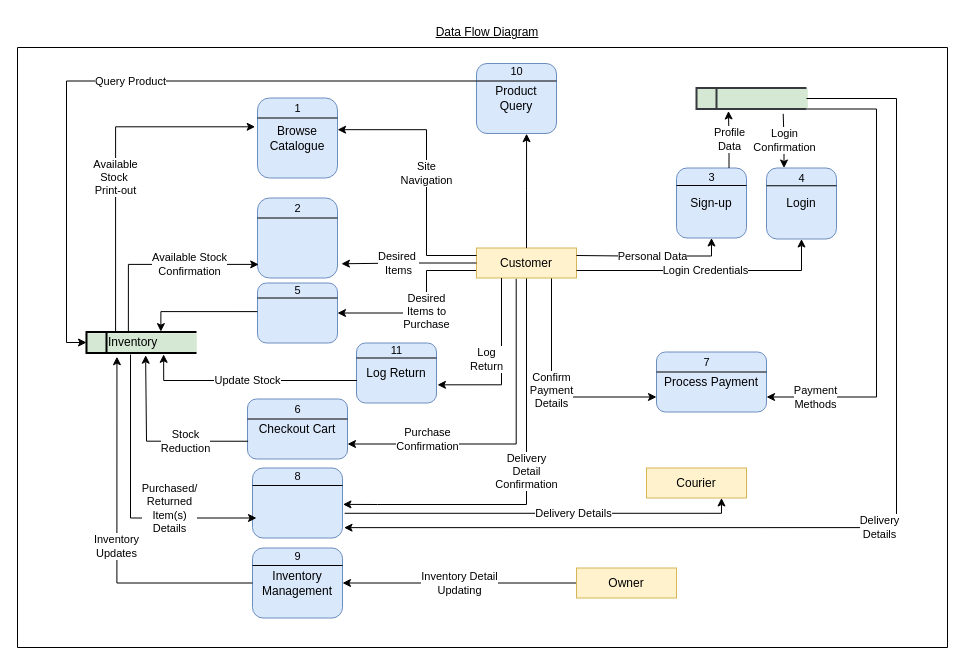
This 965x665 diagram has some shape labels left out. The shapes that lost their labels are listed below. From the top down, each one's centre as x and y in pixels, then its label:
At (706,98): "D2".
At (761,98): "User Data".
At (297,237): "Add to Wishlist".
At (297,312): "Add to Cart".
At (96,342): "D1".
At (297,502): "Submit Courier Instructions".
